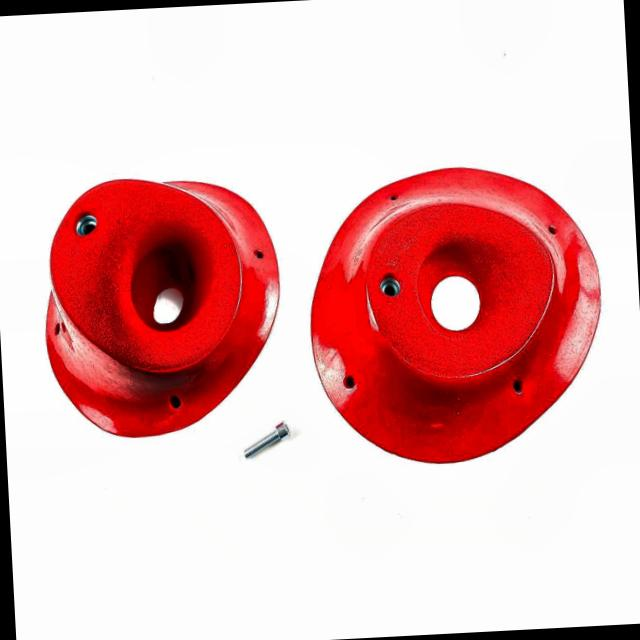Hold: (300, 160, 610, 474), (36, 172, 288, 444)
